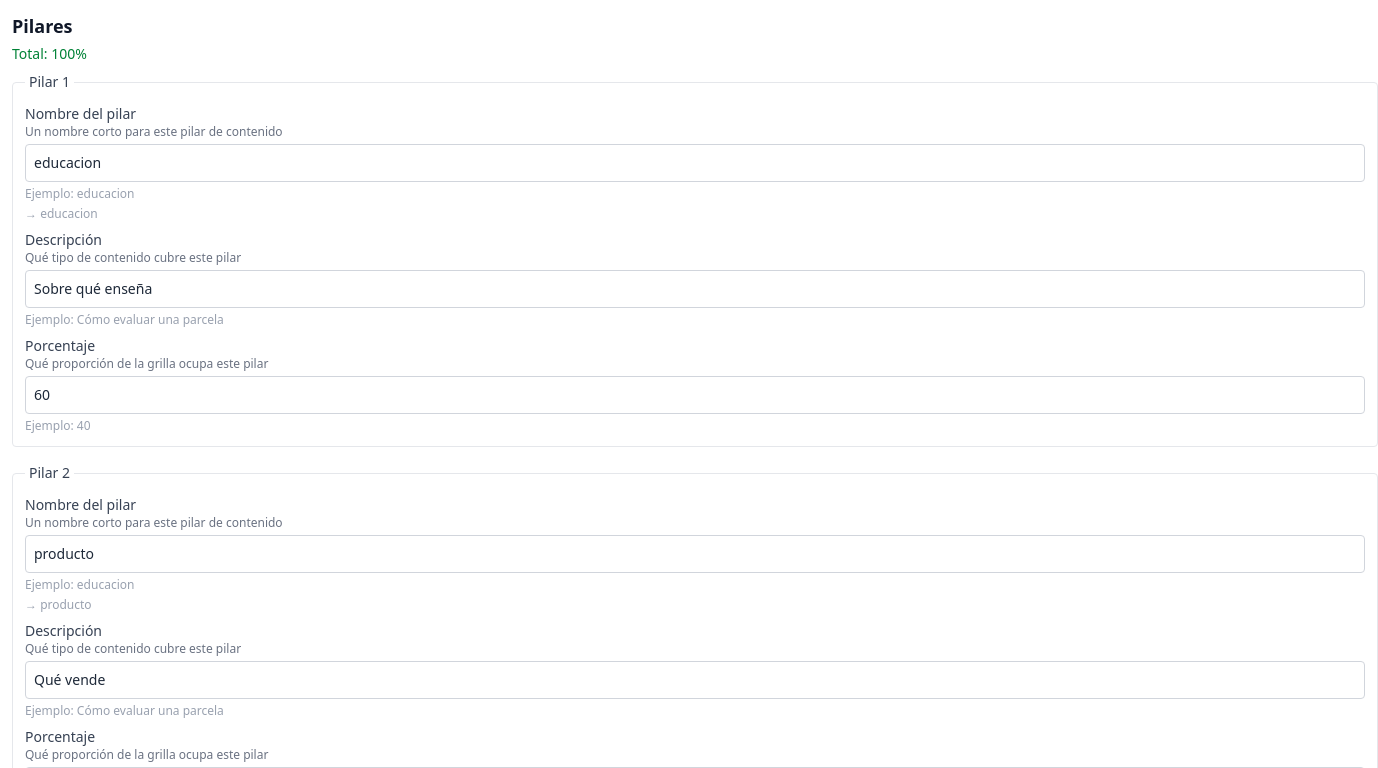
Test: SeccionPilares › muestra cómo va a quedar guardado el nombre
Replace the text in the 1st field labelled "Nombre del pilar" with "Prueba de manejo" at x=695, y=163, box [25,144,1365,182]
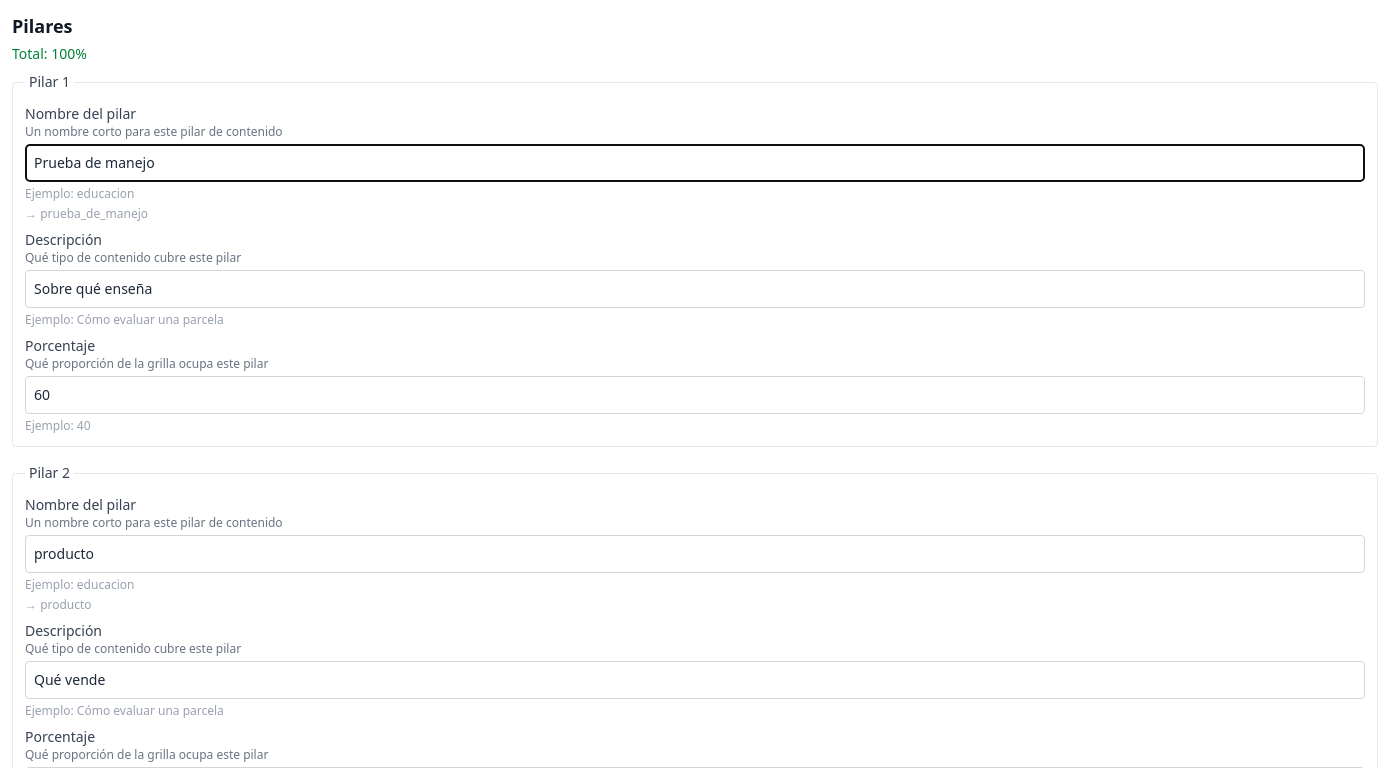
Expected: the text "→ prueba_de_manejo" is shown, [25,205,148,222]
